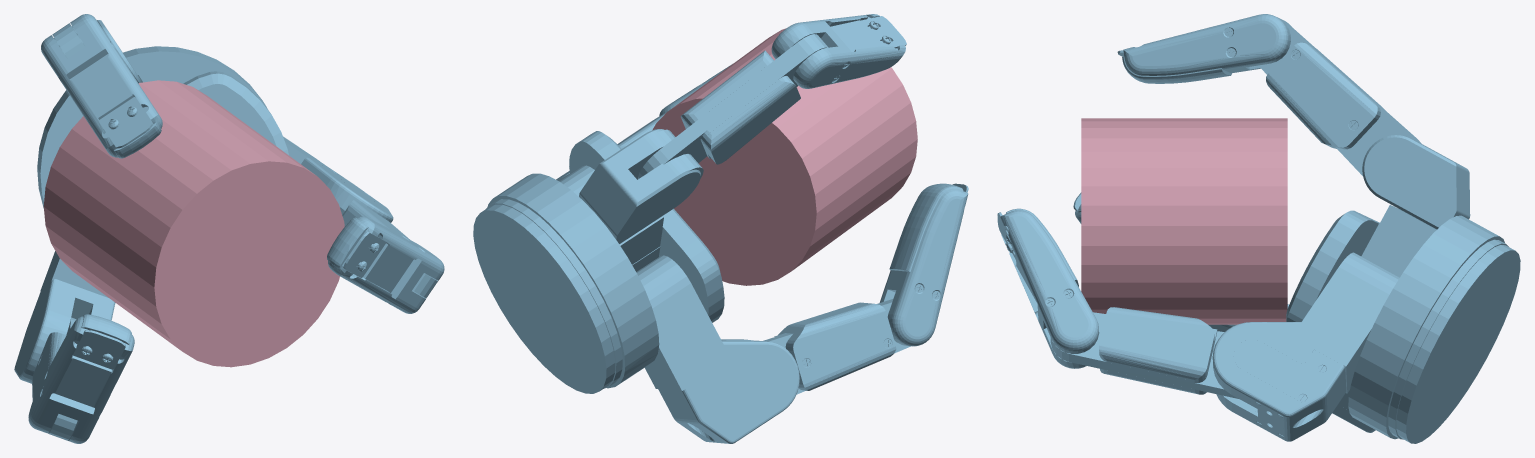
3 renders of one model, left to right at view 1: azimuth 30°, elevation 25°; view 2: azimuth 150°, elevation 25°; view 3: azimuth 270°, elevation 25°, orthographic. The views are drawn at different scales.
Parts seen in each view (by area): view 1: cylinder_medium.stl, world; view 2: world, cylinder_medium.stl; view 3: world, cylinder_medium.stl.
Boxes of the visible parts, x1,y1,x2,y2 form: cylinder_medium.stl: (43,80,344,367); world: (14,14,444,443); world: (473,14,968,443); cylinder_medium.stl: (652,28,917,285); world: (997,14,1520,443); cylinder_medium.stl: (1081,118,1287,324).
Size of the model in its own units: 0.1727 by 0.1703 by 0.2027.
